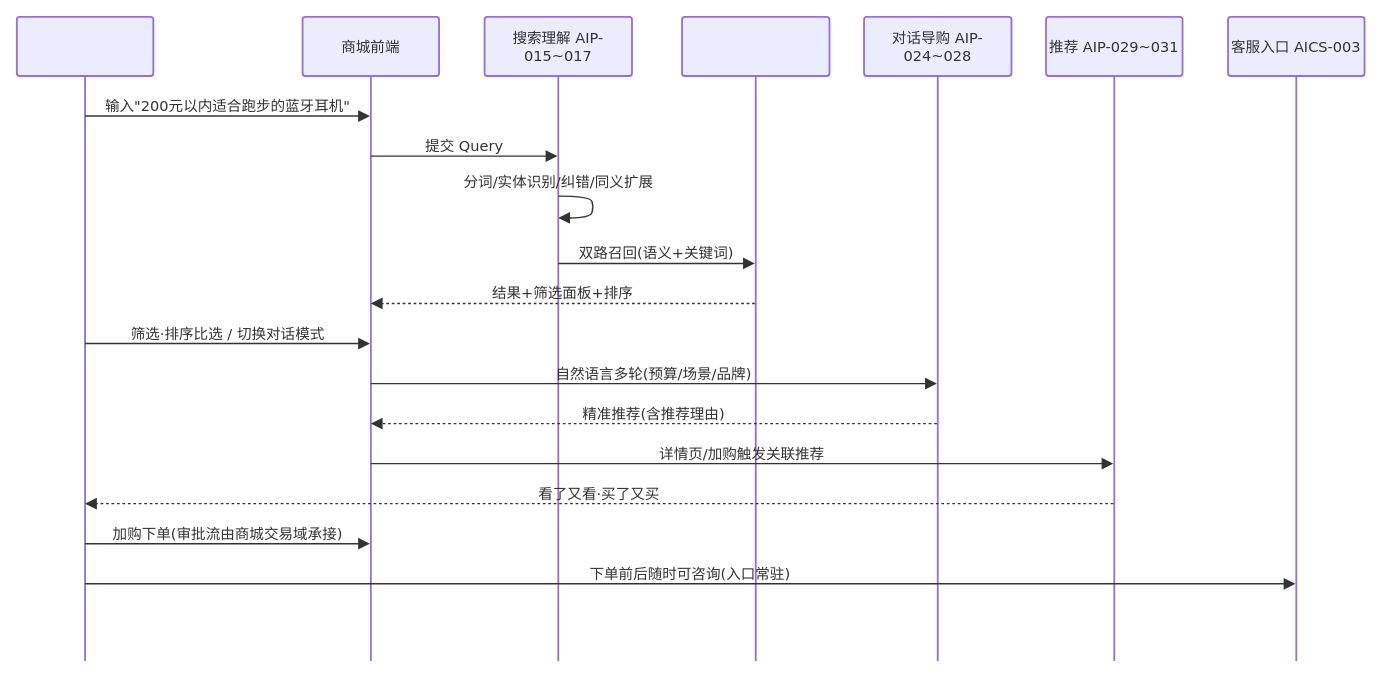
Some shapes in this 1380 by 677 pixel diagram are drawn without their labels. Each missing label, with the box of its shape:
检索排序 AIP-018~023: (681, 15, 830, 662)
采购人员: (15, 15, 154, 662)
